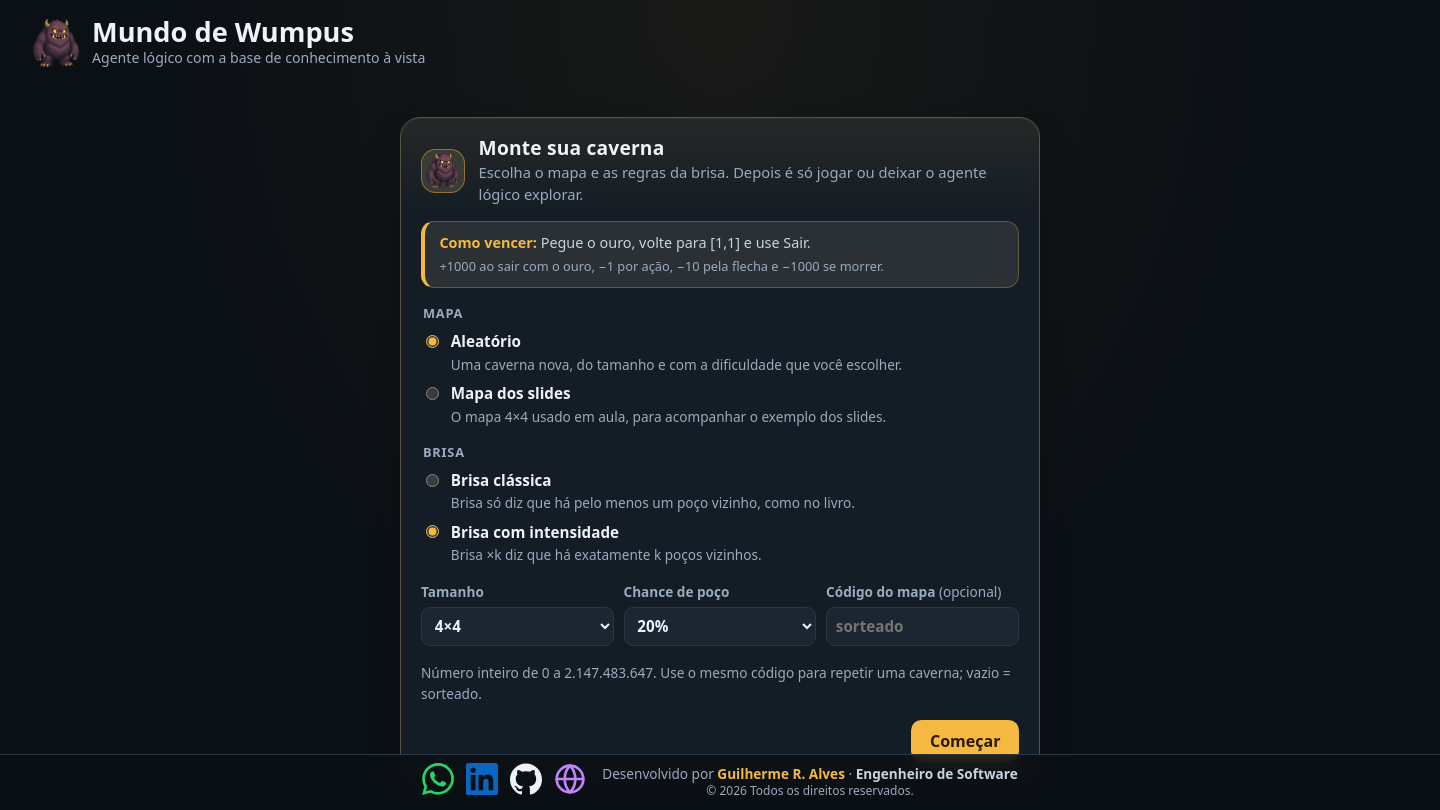
Test case: App › goes back to the setup when the first game cannot be created
Click the button "Começar" at (965, 741), box left=911, top=720, right=1019, bottom=762
(page scrolled)
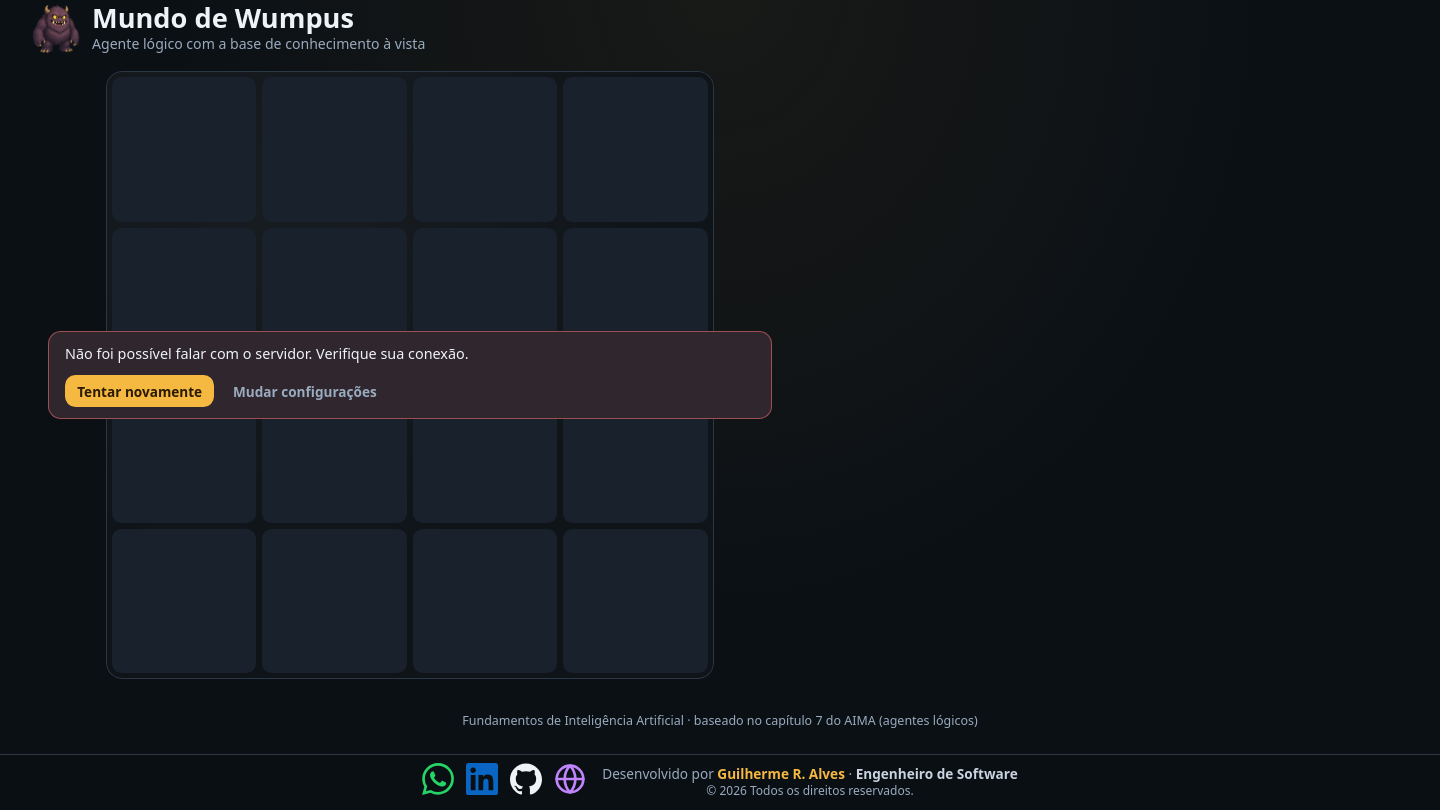
Click the button "Mudar configurações" at (305, 391), box left=221, top=375, right=389, bottom=407
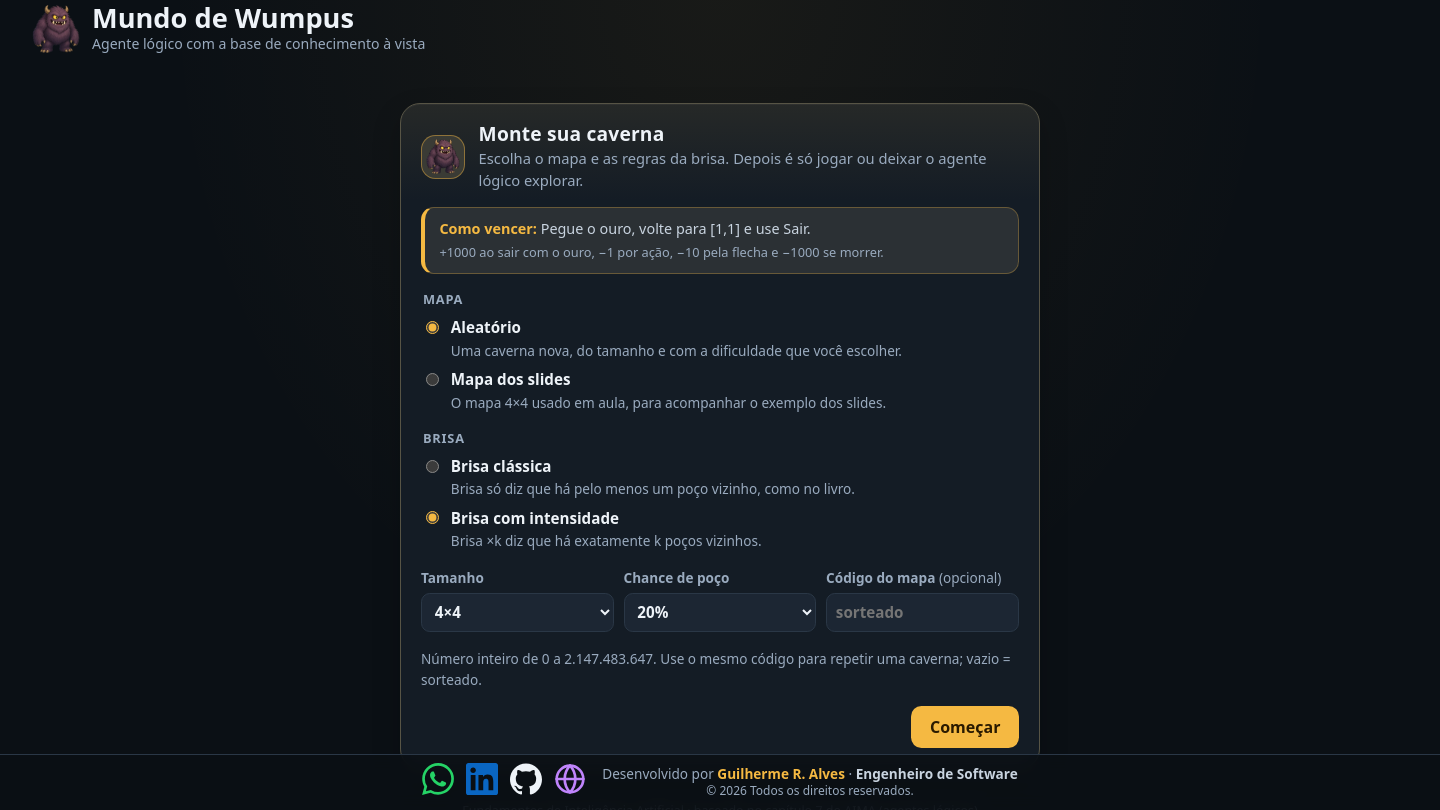
Check: the message is gone
Check: the element "Monte sua caverna" is shown, box left=400, top=104, right=1040, bottom=769
